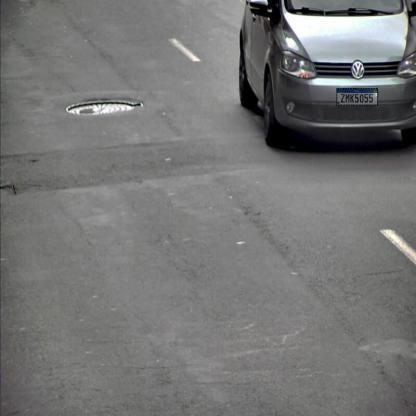PlacaM: (336, 88, 378, 105)
